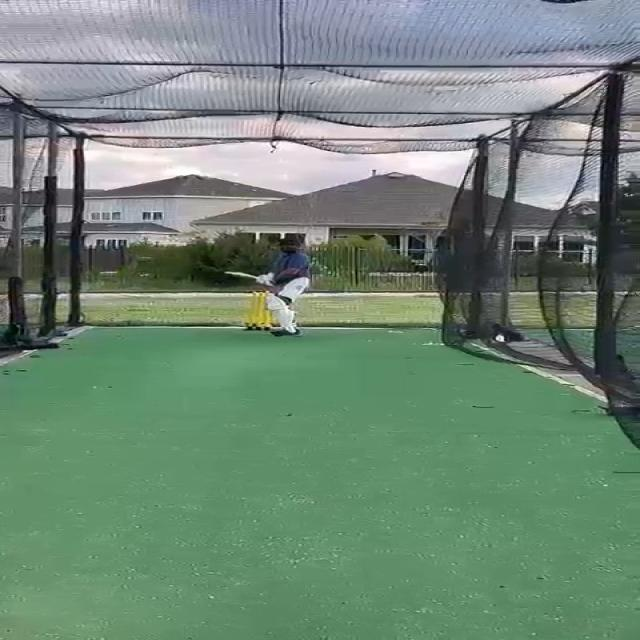batsman: (224, 237, 315, 339)
